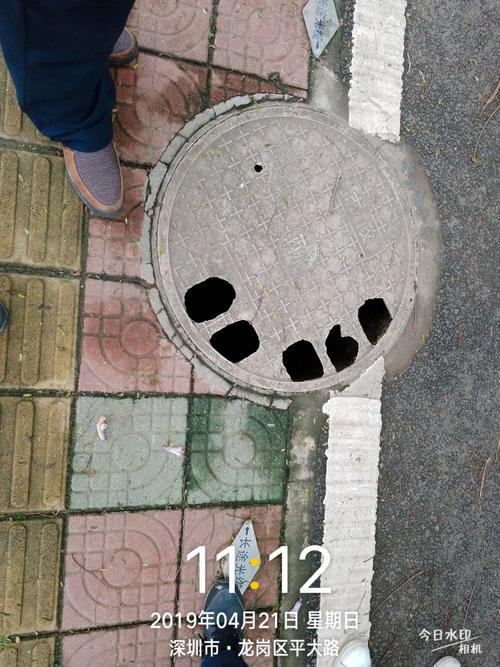broke: (140, 87, 447, 412)
